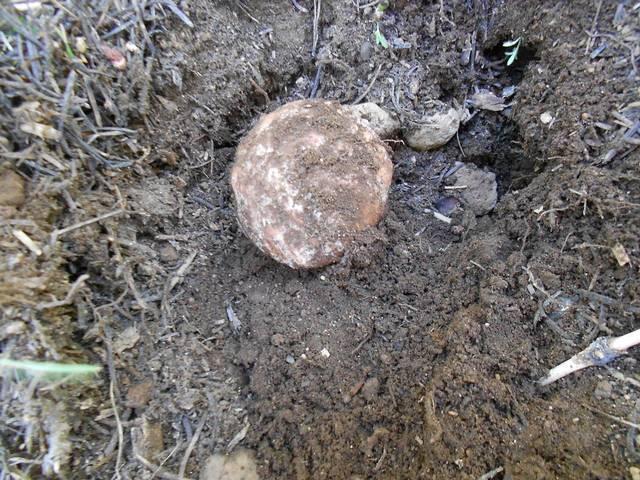edible_mushroom: (228, 96, 396, 270)
